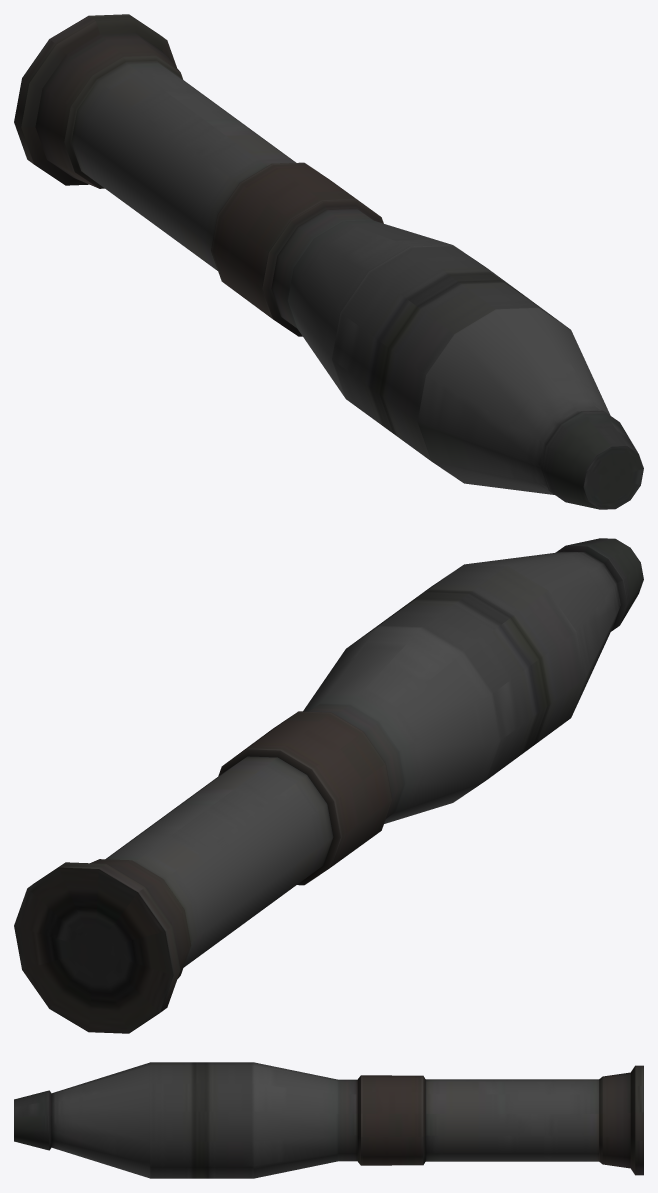
Rendered from rocket.glb.
3 renders of one model, top to bottom at view 1: azimuth 30°, elevation 25°; view 2: azimuth 150°, elevation 25°; view 3: azimuth 270°, elevation 25°, orthographic. The views are drawn at different scales.
Visible parts, largest first — view 1: w_rocket_reference; view 2: w_rocket_reference; view 3: w_rocket_reference.
Part boxes in pixels (x1,y1,x2,y2): w_rocket_reference: (14, 14, 643, 509); w_rocket_reference: (14, 538, 643, 1033); w_rocket_reference: (14, 1062, 643, 1178).
Size of the model in its own units: 0.1302 by 0.1302 by 0.698.
Materials: 1 (1 with a texture image).
